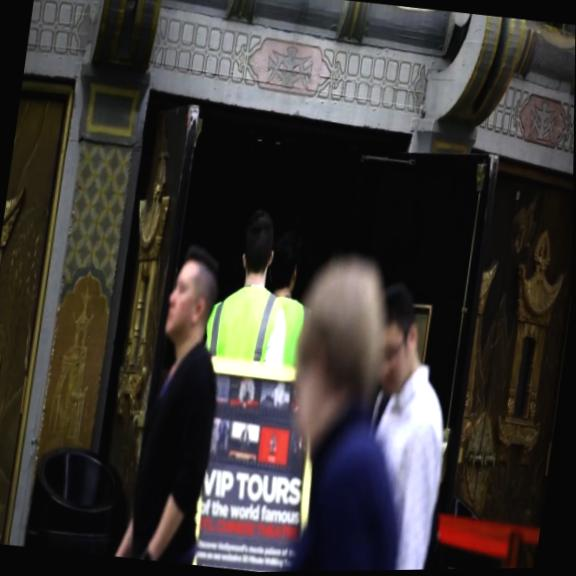safety_vest: (200, 277, 287, 367), (264, 293, 313, 368)
